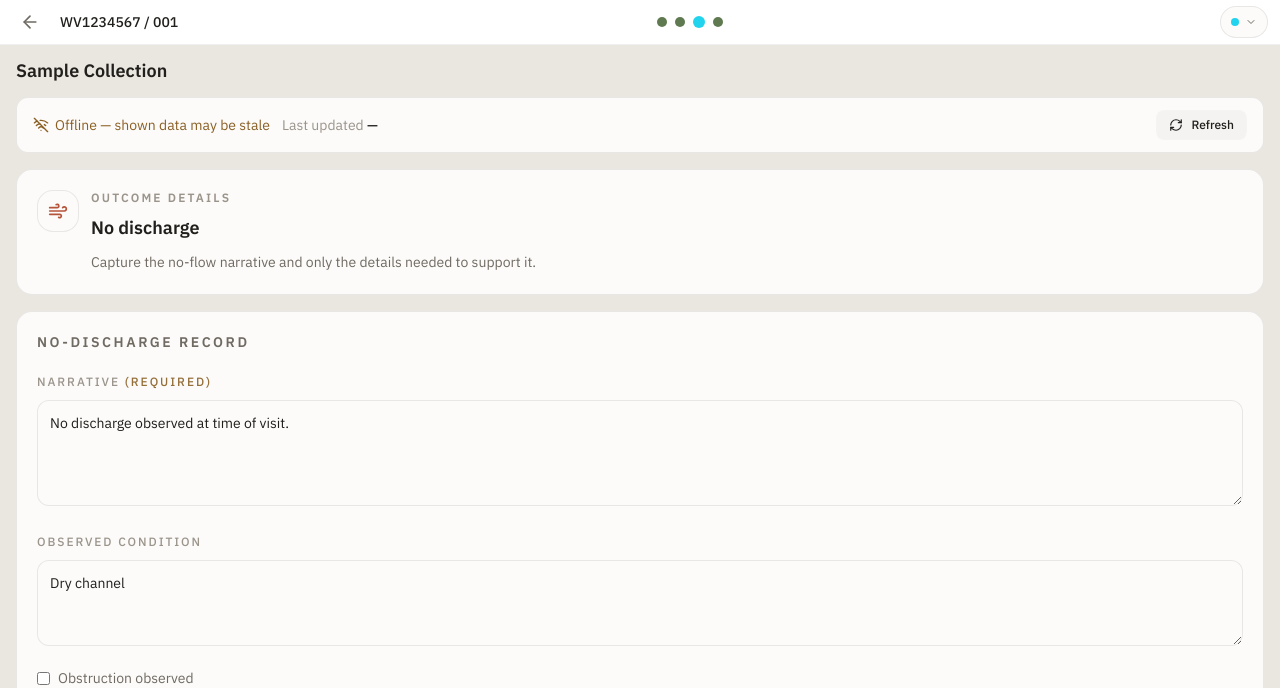
Test case: FieldVisitPage wizard › limits the evidence step to outcome-relevant buckets and keeps offline drafts visible
This screenshot has width=1280, height=688.
Expected: the navigation bar named "Field visit wizard progress" is shown, top-left (657, 16), bottom-right (741, 28)
Expected: the heading "Sample Collection" is shown, top-left (16, 59), bottom-right (167, 82)
Step 1. Click the button named "Evidence" → {"x": 718, "y": 22}, box top-left (713, 17), bottom-right (723, 27)
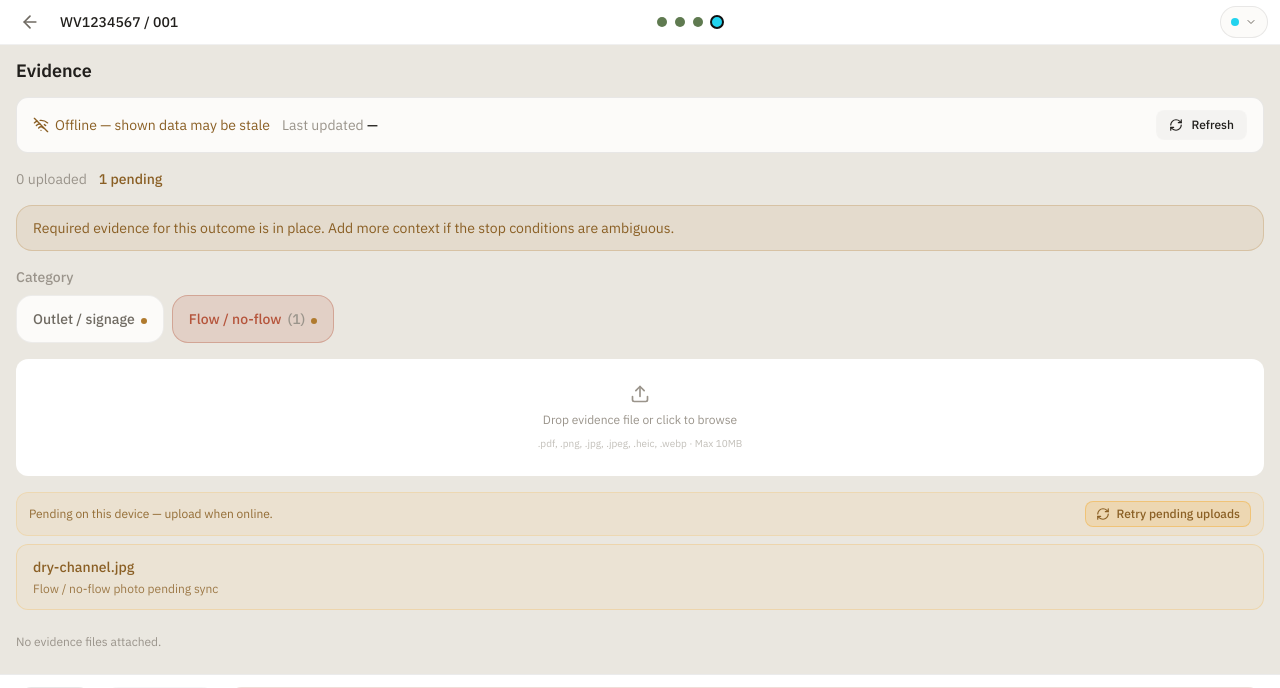
Result: the heading "Evidence" is shown at top-left (16, 59), bottom-right (92, 82)
Result: the text "Category" is shown at top-left (16, 268), bottom-right (73, 286)
Result: the button "Flow / no-flow(1)" is shown at top-left (172, 295), bottom-right (334, 343)
